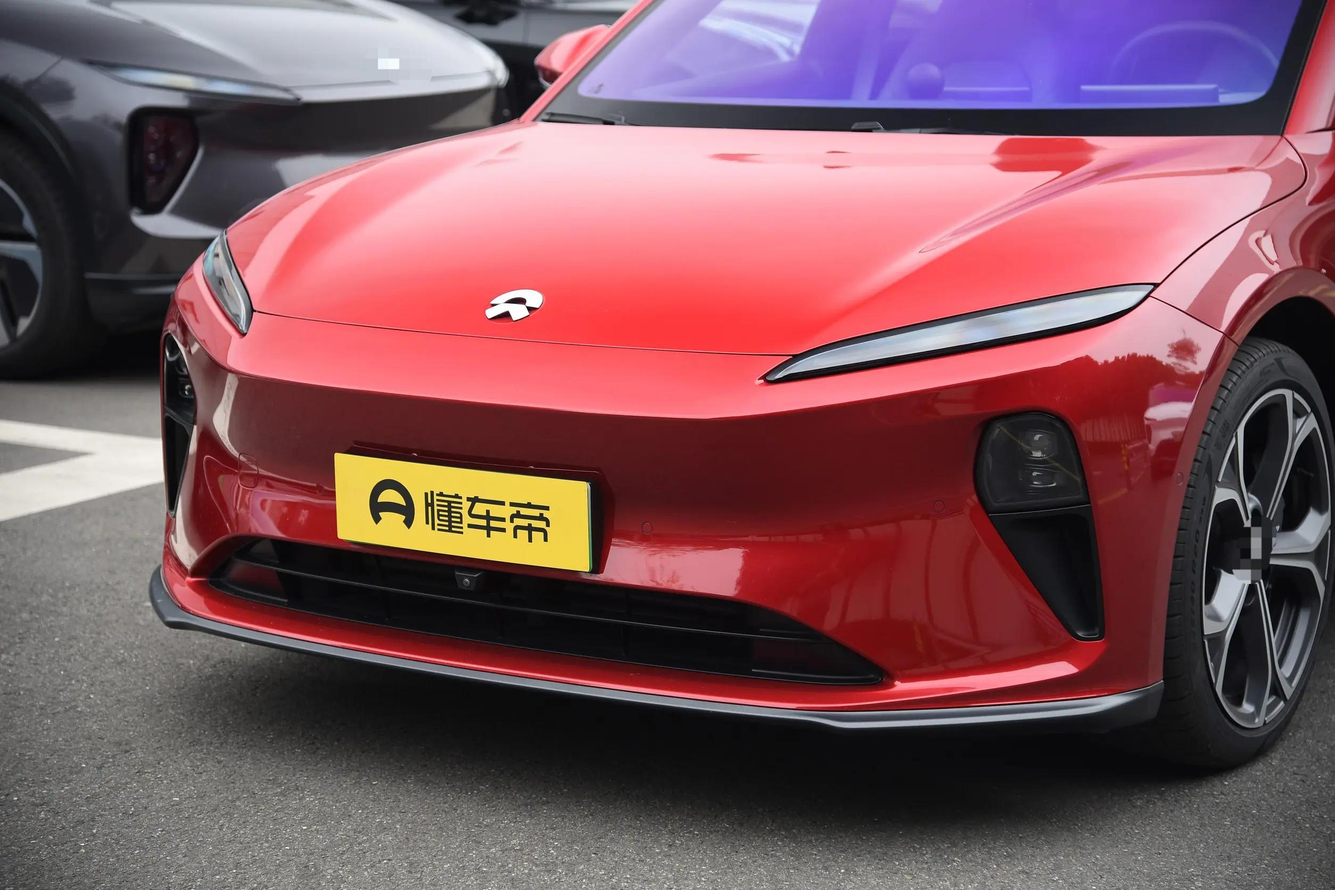NIO: (484, 287, 545, 324)
